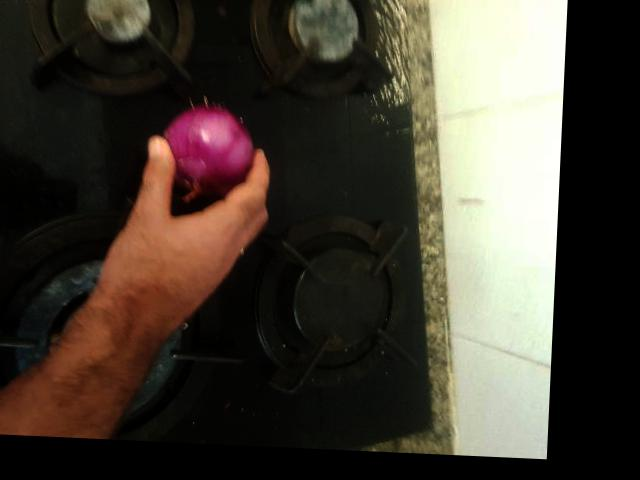onion: (326, 55, 411, 149)
